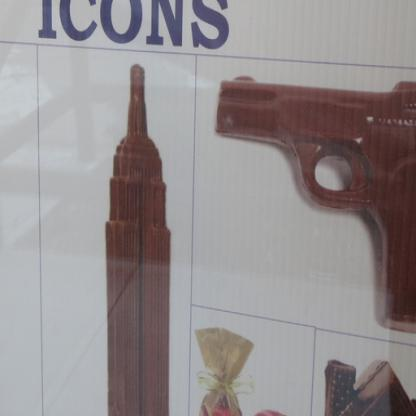gun: (214, 73, 415, 341)
